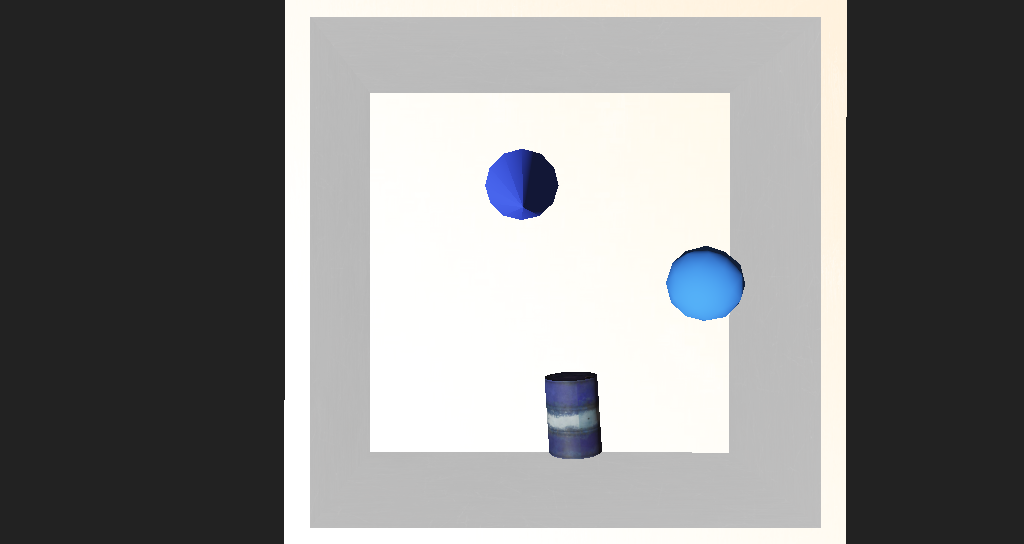cone: (502, 327, 549, 379)
cylinder: (445, 193, 512, 255)
sphere: (600, 255, 667, 298)
